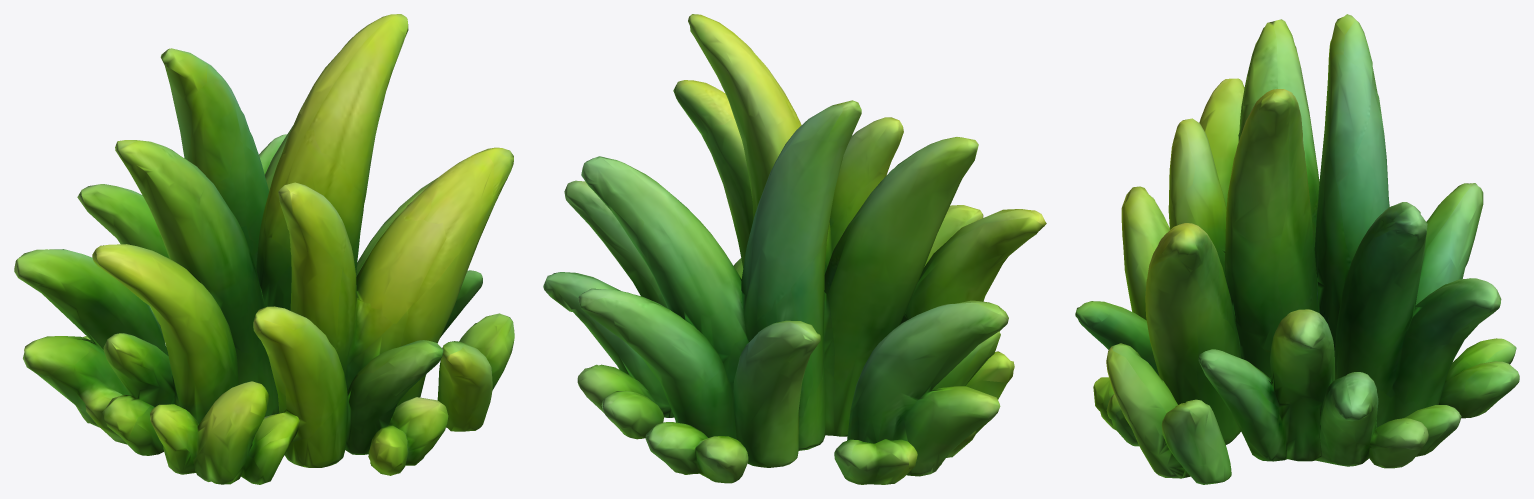
File: bush.glb
3 renders of one model, left to right at view 1: azimuth 30°, elevation 25°; view 2: azimuth 150°, elevation 25°; view 3: azimuth 270°, elevation 25°, orthographic.
Size of the model in its own units: 1 by 0.7839 by 0.8364.
1 material, 1 textured.
